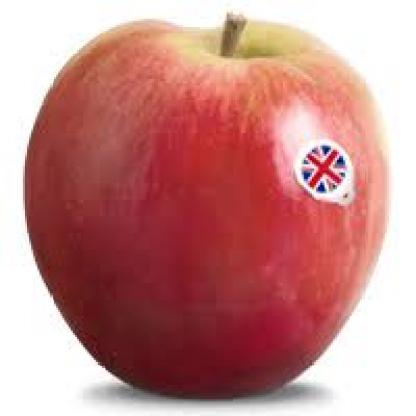apple: (33, 17, 391, 397)
